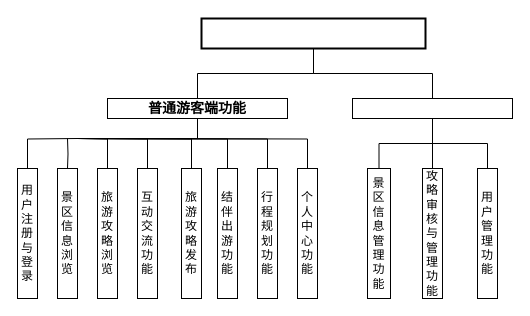
Image size: 530x316. Some labels were removed from this diagram. Each missing label, with the centre of its shape:
"旅游攻略分享与交流平台" goes at point 313,33.
"管理员端功能" goes at point 432,108.
